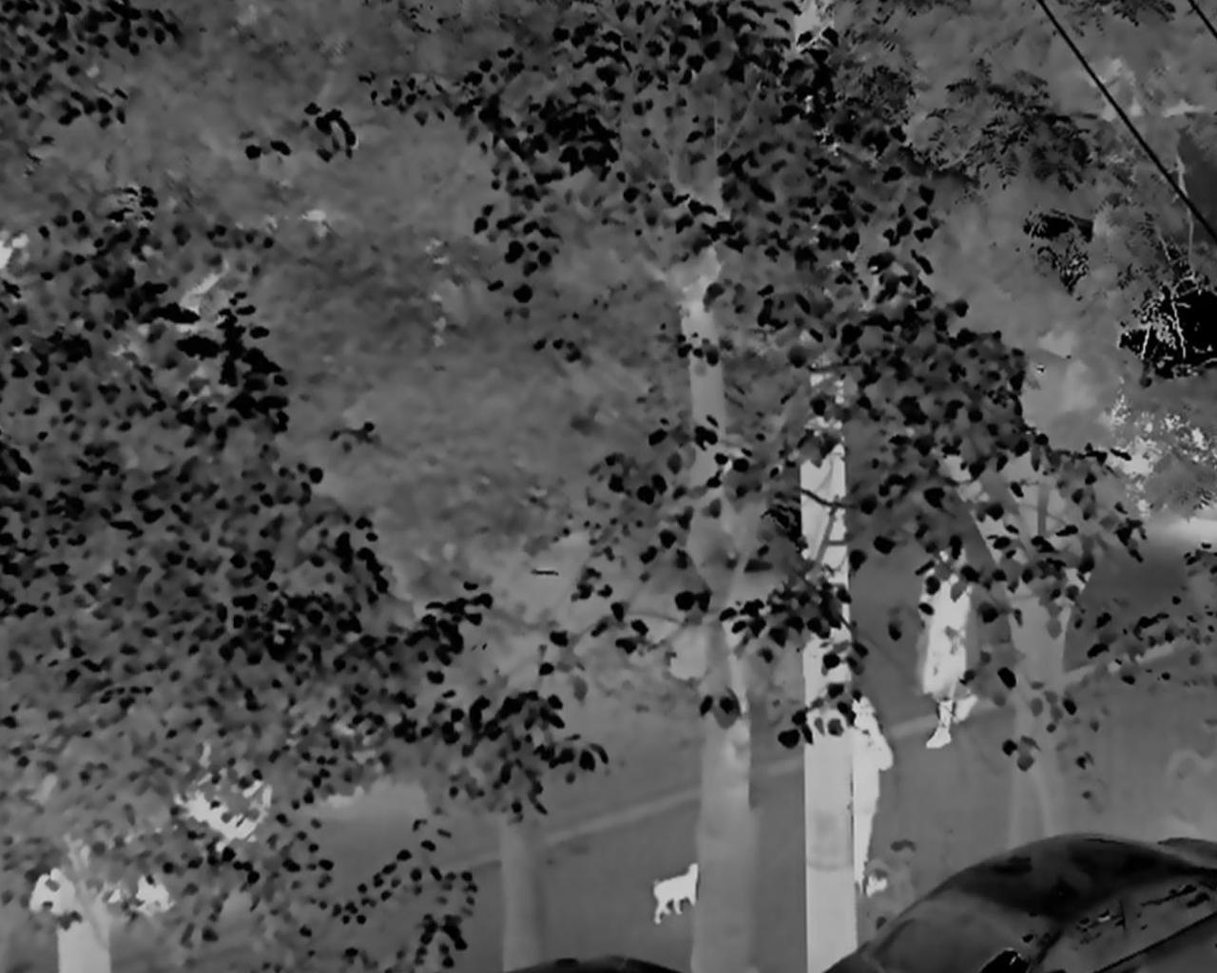person: (917, 530, 982, 754), (845, 696, 897, 890)
